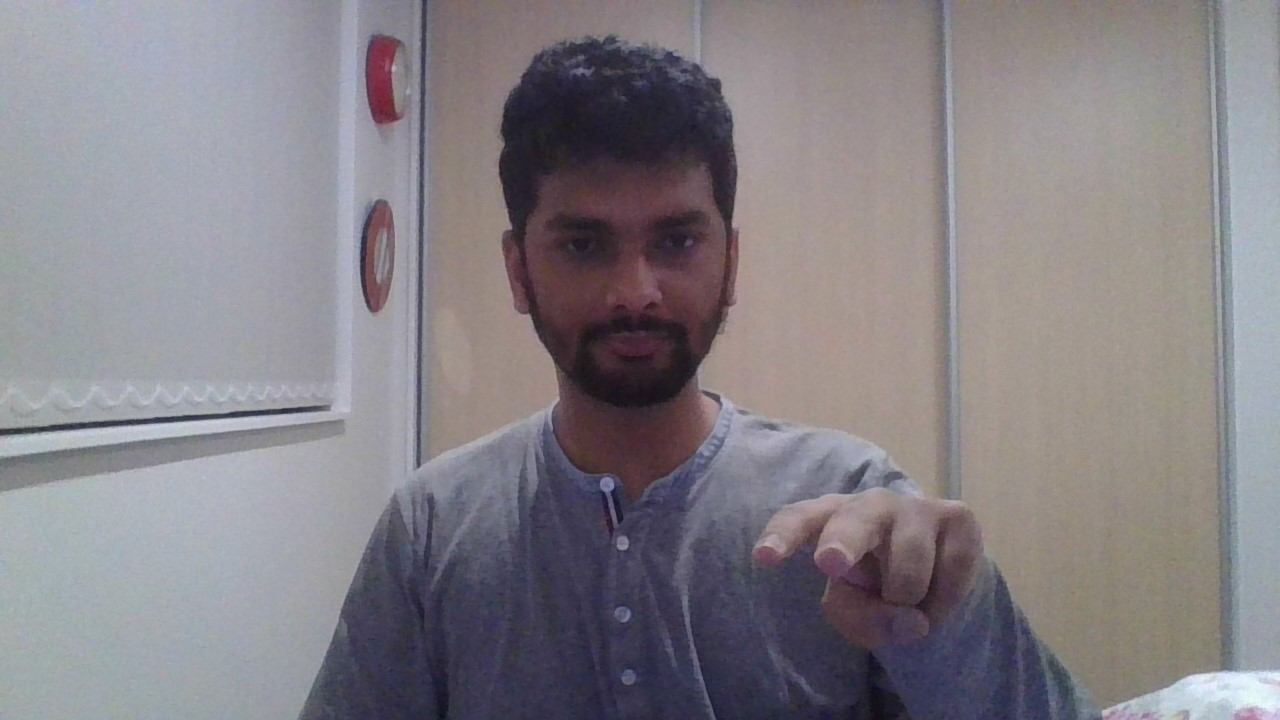look_around: (752, 486, 980, 649)
